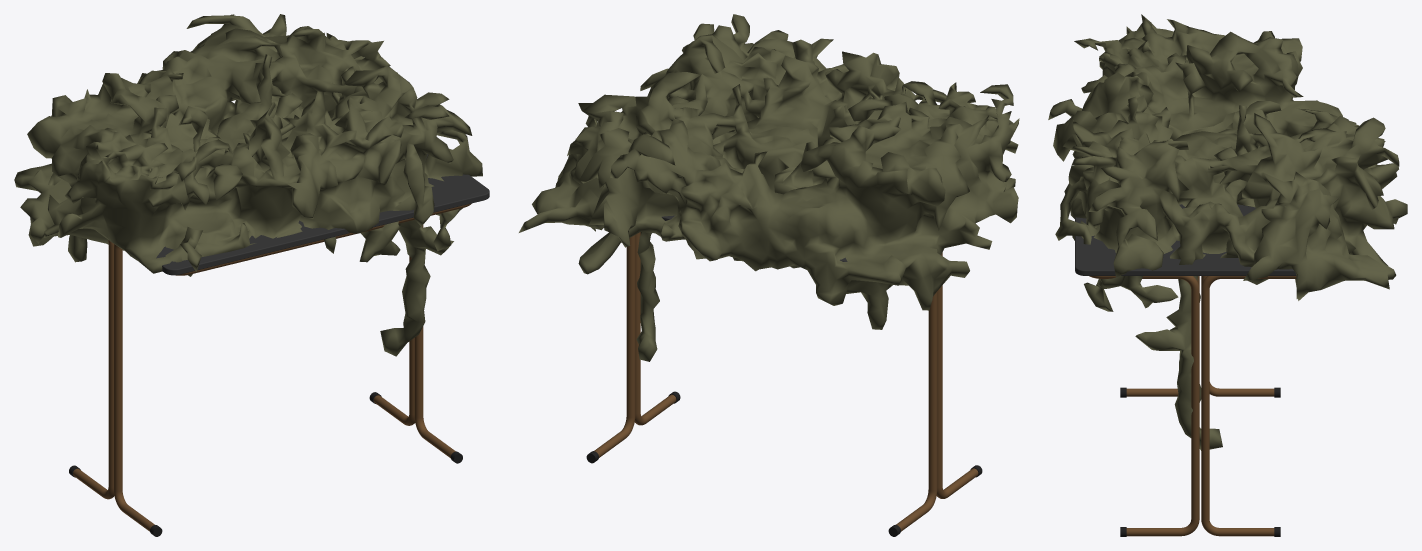
The model's file is PLANTS ON TABLE.fbx.
3 views of the same model, side by side, from view 1: azimuth 30°, elevation 25°; view 2: azimuth 150°, elevation 25°; view 3: azimuth 270°, elevation 25° (orthographic). The views are drawn at different scales.
Parts seen in each view (by area): view 1: skp355B1, Component_2_1, Group1, Component_2_2; view 2: skp355B1, Component_2_2, Component_2_1; view 3: skp355B1, Component_2_2, Component_2_1, Group1.
Part boxes in pixels (<box>): skp355B1: <box>14,14,482,356</box>; Component_2_1: <box>114,203,471,536</box>; Group1: <box>156,154,489,275</box>; Component_2_2: <box>69,240,415,499</box>; skp355B1: <box>519,14,1019,361</box>; Component_2_2: <box>586,235,937,536</box>; Component_2_1: <box>635,232,982,498</box>; skp355B1: <box>1048,14,1407,450</box>; Component_2_2: <box>1201,276,1296,536</box>; Component_2_1: <box>1089,276,1199,536</box>; Group1: <box>1075,204,1296,275</box>.
Size of the model in its own units: 1185 by 1126 by 964.
